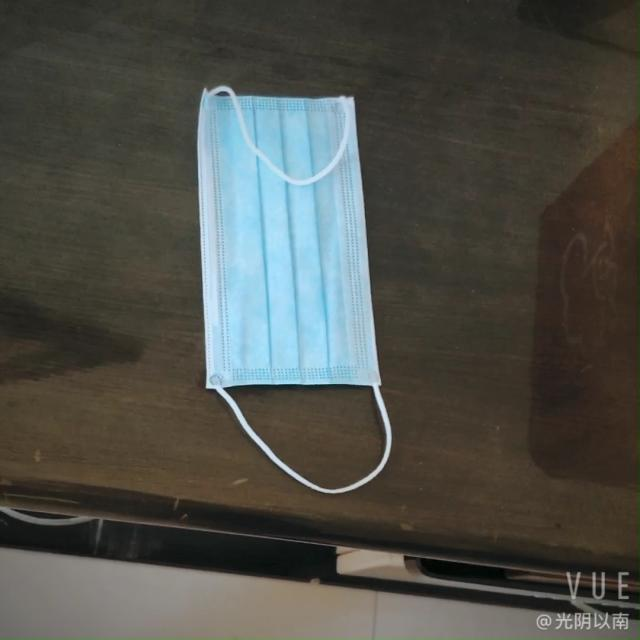face mask: (186, 88, 400, 414)
